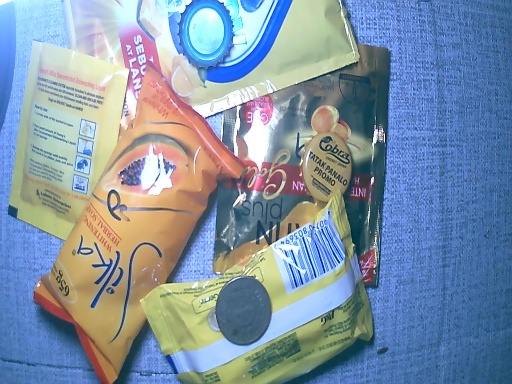metal: (177, 1, 235, 74), (212, 275, 270, 346), (301, 132, 350, 209)
plastic: (42, 76, 247, 380), (140, 199, 365, 384), (215, 47, 390, 278), (57, 2, 395, 117), (4, 41, 130, 238)
